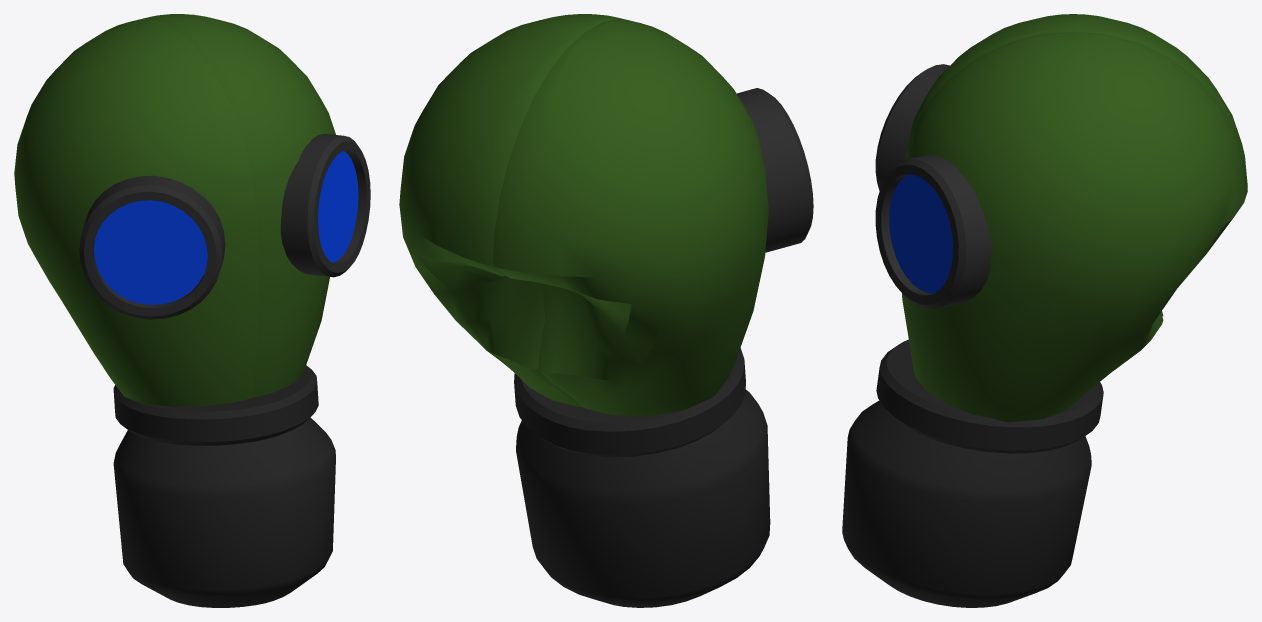
Rendered from gazmaskesi.fbx.
The picture shows the model from 3 angles, left to right: view 1: azimuth 30°, elevation 25°; view 2: azimuth 150°, elevation 25°; view 3: azimuth 270°, elevation 25°; orthographic projection. The views are drawn at different scales.
Parts seen in each view (by area): view 1: maske; view 2: maske; view 3: maske.
Boxes of the visible parts, bbox=[...] form: maske: bbox=[14, 14, 370, 607]; maske: bbox=[399, 14, 813, 607]; maske: bbox=[842, 14, 1247, 607].
Bounding box in the file's own units: 78.04 × 133 × 88.08.
